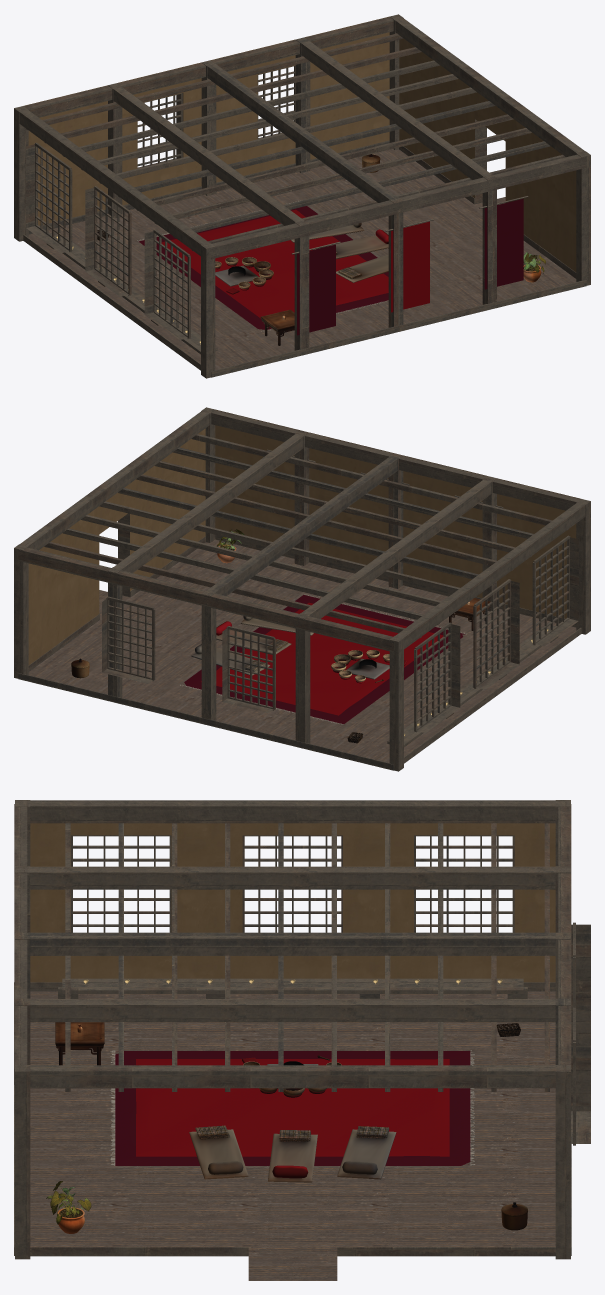
The model's file is room.gltf.
3 views of the same model, one above another, from view 1: azimuth 30°, elevation 25°; view 2: azimuth 150°, elevation 25°; view 3: azimuth 270°, elevation 25° (orthographic). The views are drawn at different scales.
Parts seen in each view (by area): view 1: shell_beam, shell_clay, shell_floor_oak, shell_rugred, shell_rugblue, prop_linen, prop_bronze_bowl, prop_chinese_tea_table_1, prop_herring; view 2: shell_beam, shell_clay, shell_floor_oak, shell_rugred, shell_rugblue, prop_linen, prop_bronze_bowl, prop_herring; view 3: shell_beam, shell_floor_oak, shell_clay, shell_rugred, shell_rugblue, prop_linen, prop_chinese_tea_table_1, prop_wool, prop_herring, shell_linen, prop_velvet, prop_potted_plant_02_2 (+1 smaller).
Part boxes in pixels (x1,y1,x2,y2): shell_beam: [14, 14, 590, 378]; shell_clay: [24, 16, 576, 272]; shell_floor_oak: [28, 149, 576, 369]; shell_rugred: [161, 209, 429, 318]; shell_rugblue: [138, 198, 523, 335]; prop_linen: [291, 225, 388, 282]; prop_bronze_bowl: [215, 257, 273, 288]; prop_chinese_tea_table_1: [260, 309, 294, 345]; prop_herring: [215, 223, 361, 286]; shell_beam: [14, 407, 590, 771]; shell_clay: [28, 409, 580, 665]; shell_floor_oak: [28, 539, 576, 762]; shell_rugred: [201, 602, 443, 715]; shell_rugblue: [184, 595, 464, 724]; prop_linen: [191, 618, 313, 675]; prop_bronze_bowl: [331, 650, 389, 681]; prop_herring: [195, 616, 389, 679]; shell_beam: [14, 800, 590, 1259]; shell_floor_oak: [30, 991, 555, 1280]; shell_clay: [30, 823, 555, 982]; shell_rugred: [136, 1059, 449, 1156]; shell_rugblue: [115, 1051, 470, 1165]; prop_linen: [189, 1129, 396, 1182]; prop_chinese_tea_table_1: [55, 1022, 104, 1065]; prop_wool: [195, 1125, 389, 1141]; prop_herring: [208, 1064, 377, 1174]; shell_linen: [110, 1050, 474, 1165]; prop_velvet: [242, 1057, 325, 1178]; prop_potted_plant_02_2: [46, 1181, 91, 1224].
Size of the model in its own units: 11.94 by 3.5 by 9.76.
Materials: 21 (21 with a texture image).
